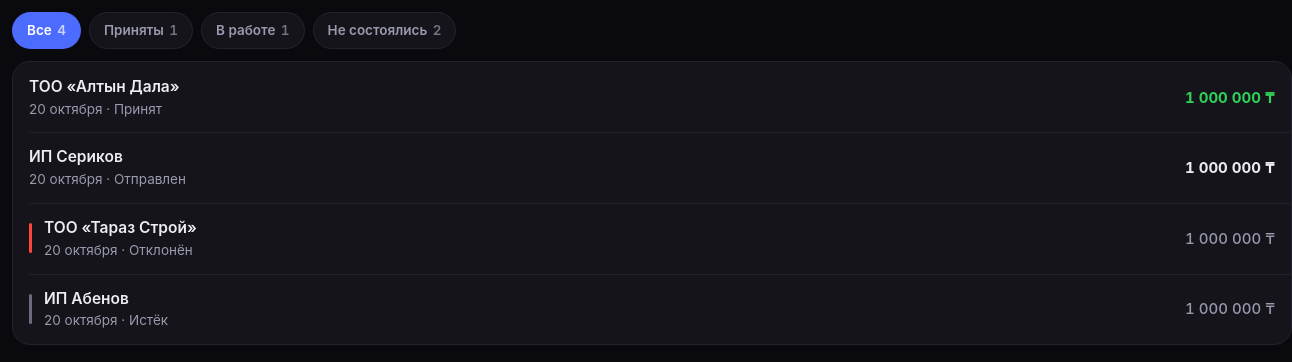
it: фильтр сделок › «В работе» оставляет только отправленные
Click the tab "В работе 1" at (253, 30), box x1=201 y1=12 x2=305 y2=49
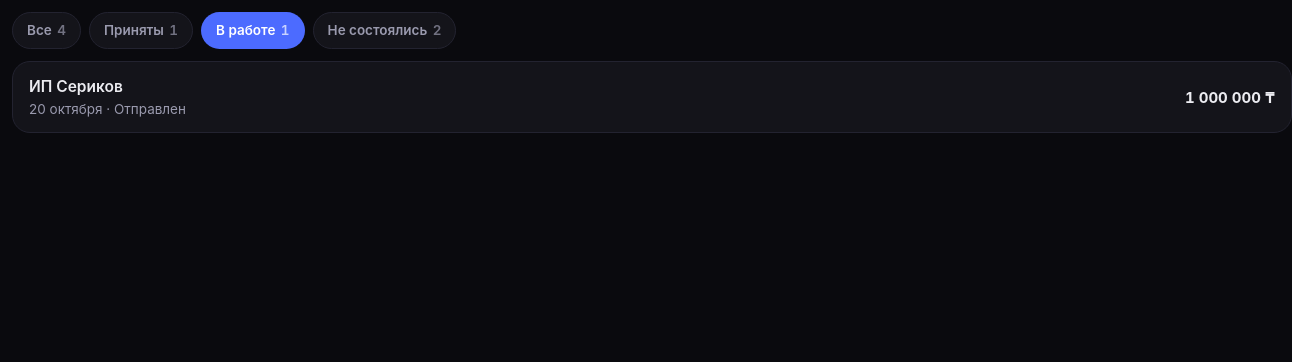
Expected: the text "ИП Сериков" is shown, x1=29 y1=77 x2=123 y2=96
Result: the text "ТОО «Алтын Дала»" is gone
